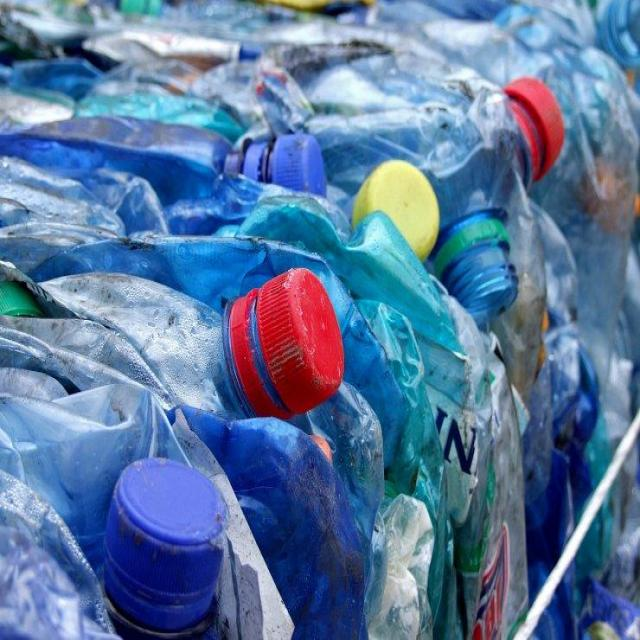heap: (2, 7, 640, 640)
plastic_bottle: (10, 253, 341, 448), (316, 50, 532, 323), (102, 453, 256, 640), (10, 120, 336, 197), (499, 68, 564, 203)
